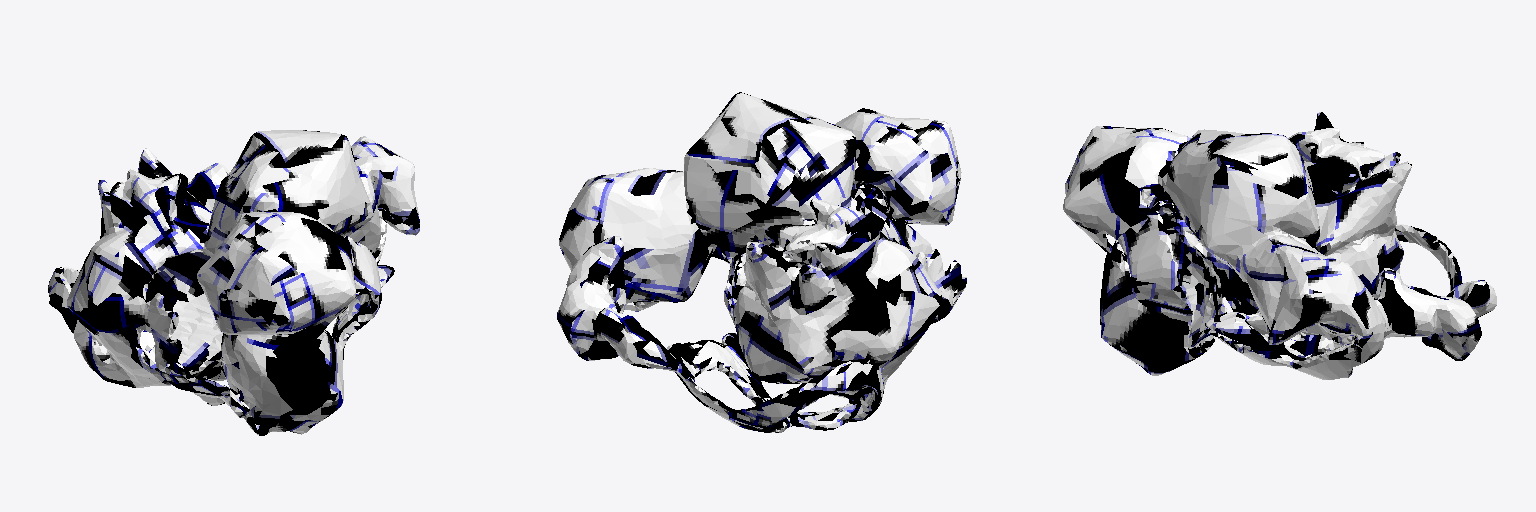
3 renders of one model, left to right at view 1: azimuth 30°, elevation 25°; view 2: azimuth 150°, elevation 25°; view 3: azimuth 270°, elevation 25°, orthographic.
Size of the model in its own units: 414 by 297 by 457.
1 materials, 1 textured.